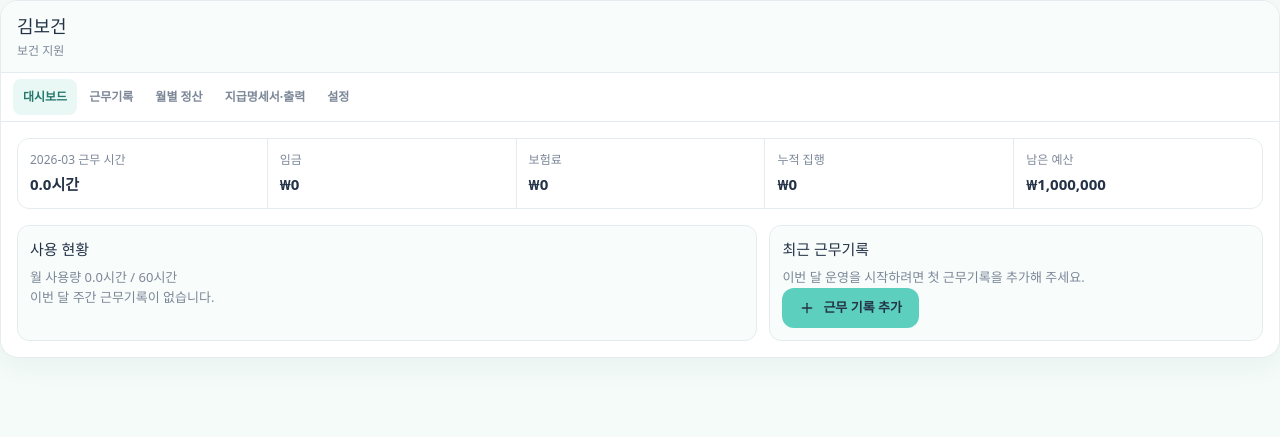
Scenario: HealthSupportInstructorWorkspace › blocks an empty-month attendance register preview and print action
Click the tab "지급명세서·출력": coordinates (265, 97) [215, 79, 315, 115]
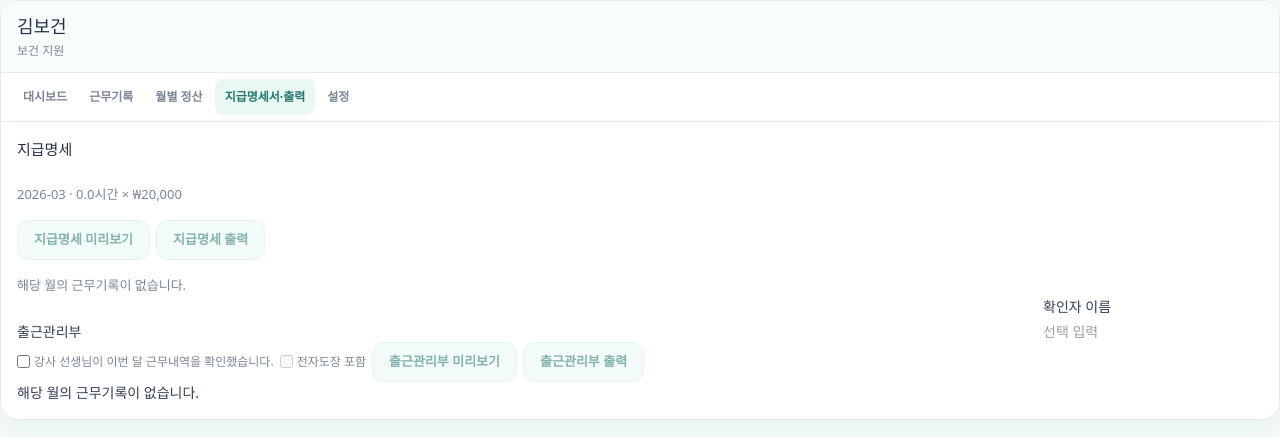
Expected: the number of messages is 2, [17, 276, 186, 294]; [17, 382, 199, 402]
Expected: the button with aria-label "Preview attendance register" is disabled, [372, 342, 517, 382]
Expected: the button with aria-label "Print attendance register" is disabled, [523, 342, 644, 382]
